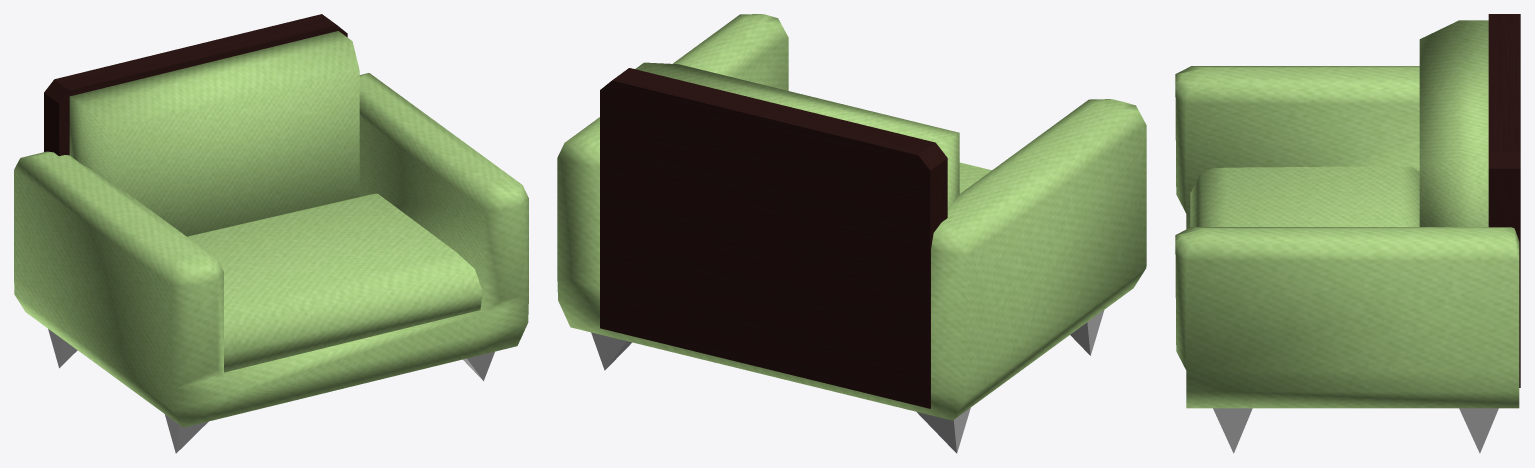
Rendered from Armchair_H_2.FBX.
3 renders of one model, left to right at view 1: azimuth 30°, elevation 25°; view 2: azimuth 150°, elevation 25°; view 3: azimuth 270°, elevation 25°, orthographic. The views are drawn at different scales.
Visible parts, largest first — view 1: Flatback_Chair; view 2: Flatback_Chair; view 3: Flatback_Chair.
Part boxes in pixels (x1,y1,x2,y2): Flatback_Chair: (14,14,528,453); Flatback_Chair: (557,14,1146,453); Flatback_Chair: (1175,14,1520,453).
Bounding box in the file's own units: 214 × 157 × 170.
